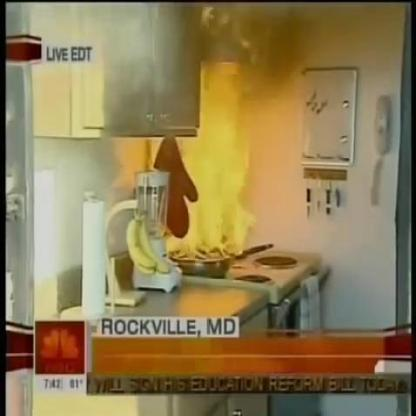fire: (178, 134, 253, 258)
